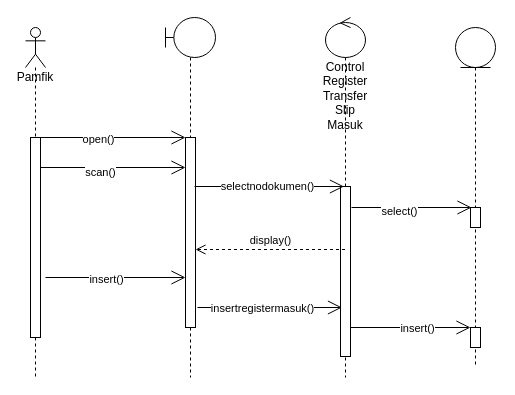
Image size: 515x395. Some labels were removed from this diagram. The shapes that lost their labels are listed below. From the top down, each one's box as (x1, y1, x2, y2) in pixels, then its label:
(164, 16, 216, 378): Halaman Register Transfer Slip Masuk
(454, 26, 496, 368): Transfer Slip
